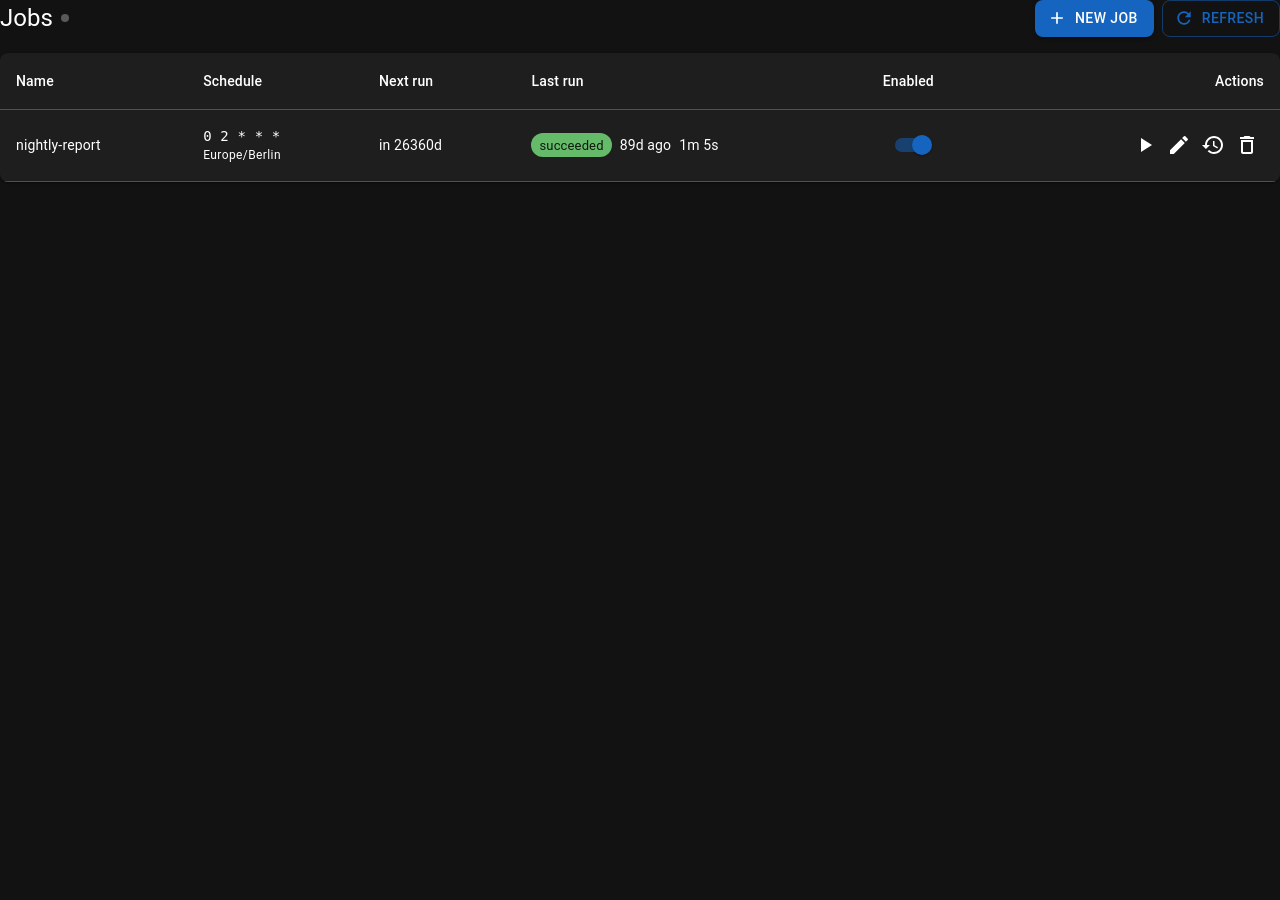
Test: JobsPage › Run now confirms, then posts
Step 1. Click the button named "run nightly-report now" → [1145, 146], box [1128,128,1162,162]
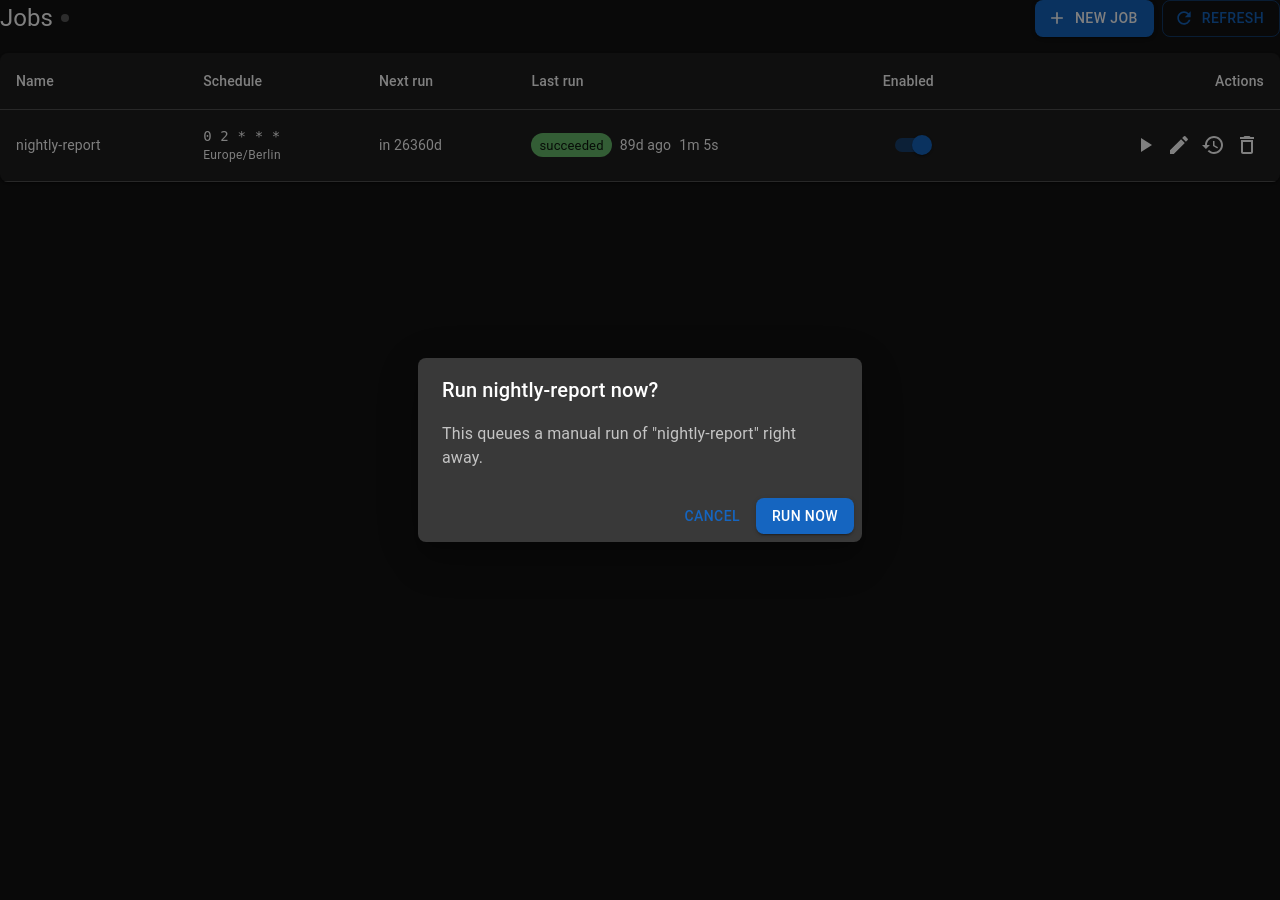
Check: the heading "Run nightly-report now?" is shown, box [442,378,658,402]
Step 2. Click the button "Run now" → [805, 516], box [756,498,854,534]
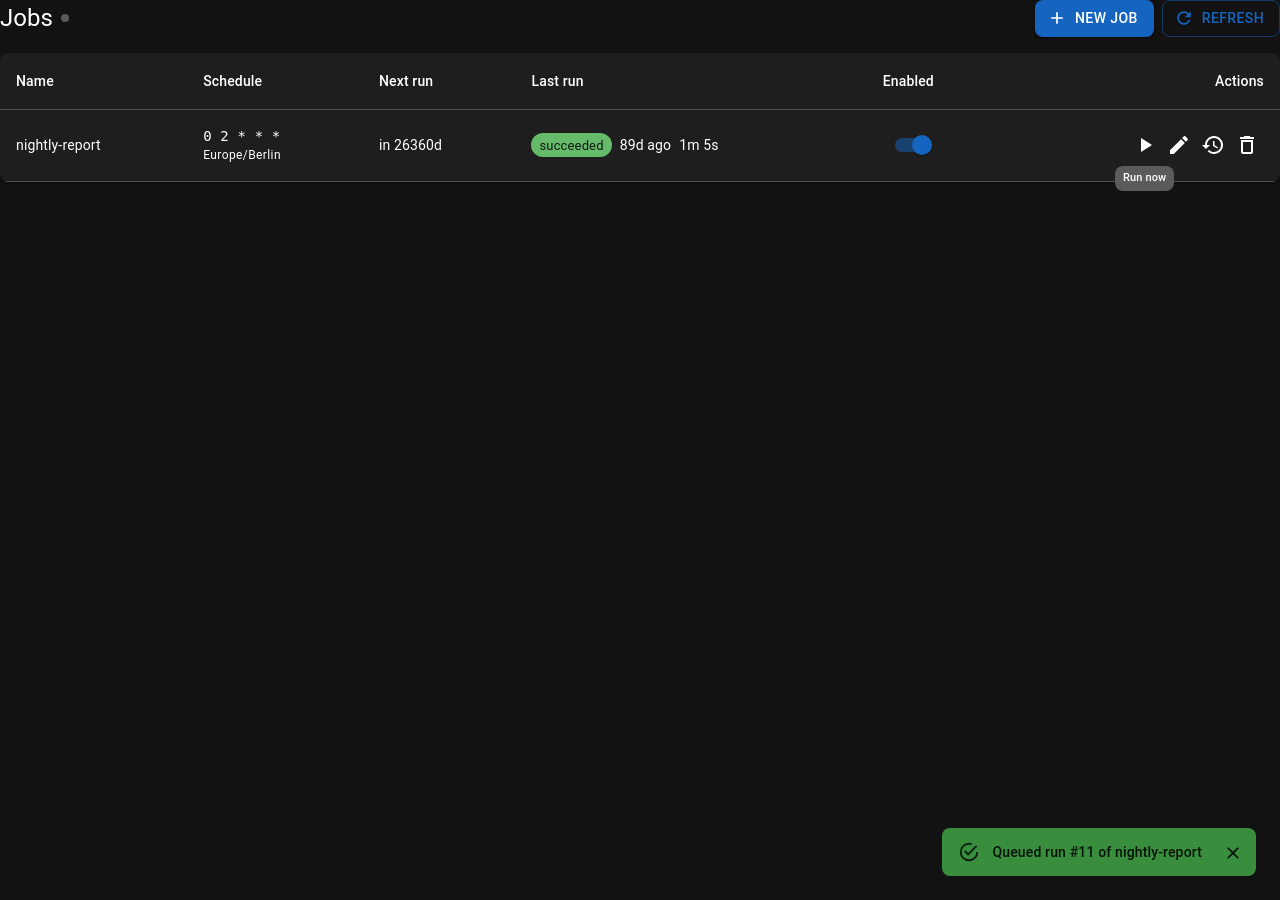
Check: the text "Queued run #11 of nightly-report" is shown, box [992,844,1202,860]
